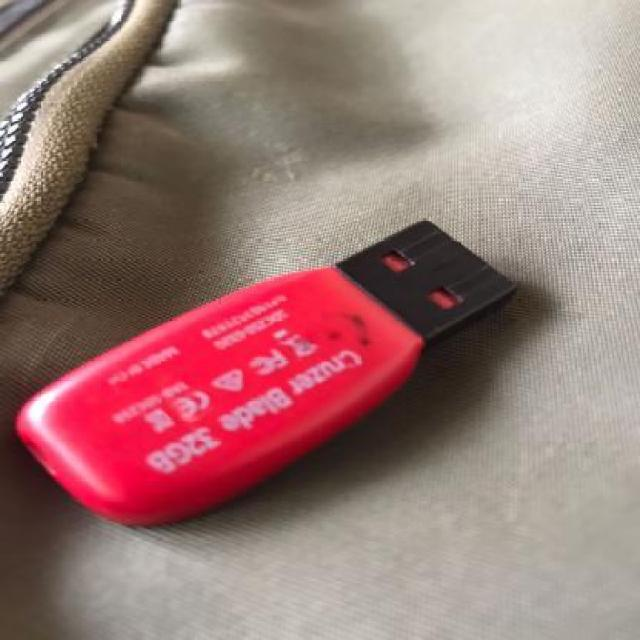Flashdisk: (14, 191, 540, 595)
